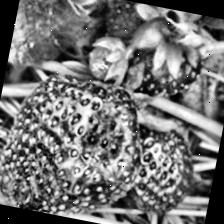Anthracnose Fruit Rot: (0, 84, 150, 224)
